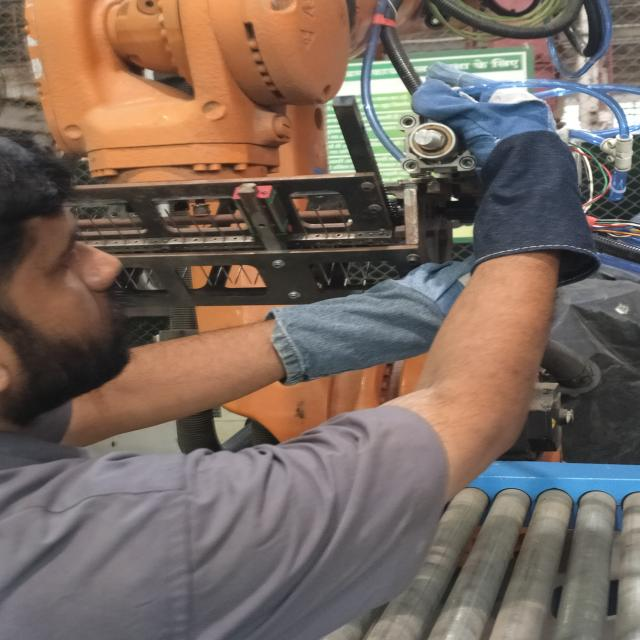Gloves-Detection: (414, 66, 600, 280), (259, 263, 496, 384)
